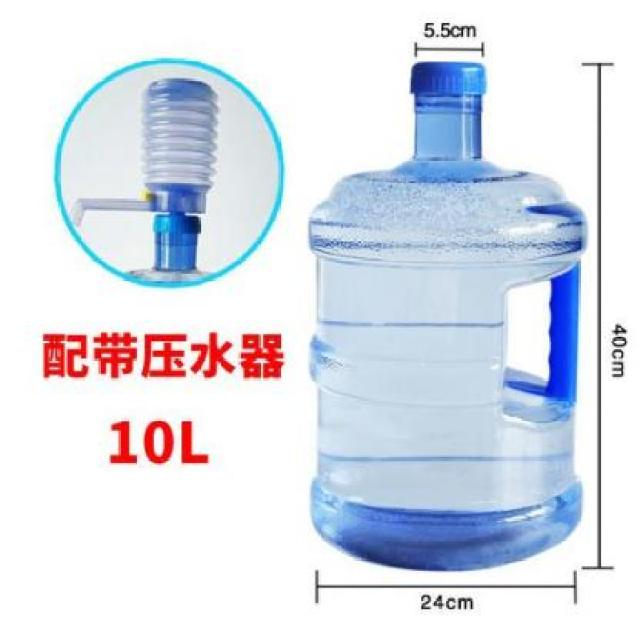coolerbottle: (302, 54, 596, 581)
